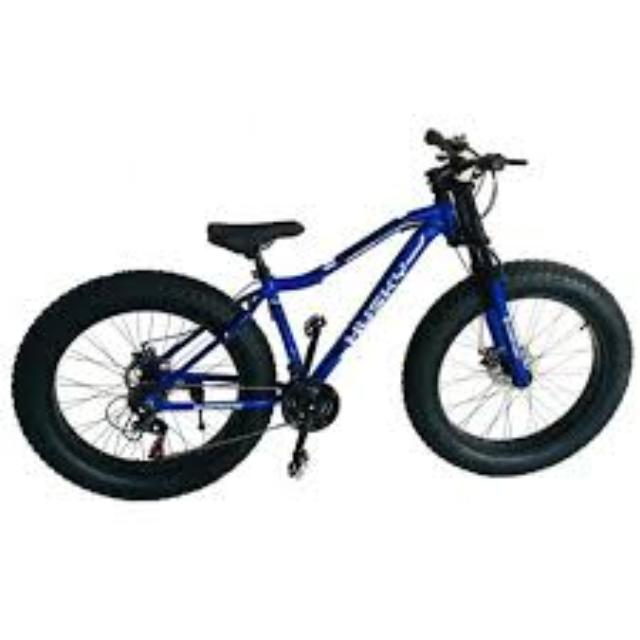obstacle: (8, 120, 640, 512)
